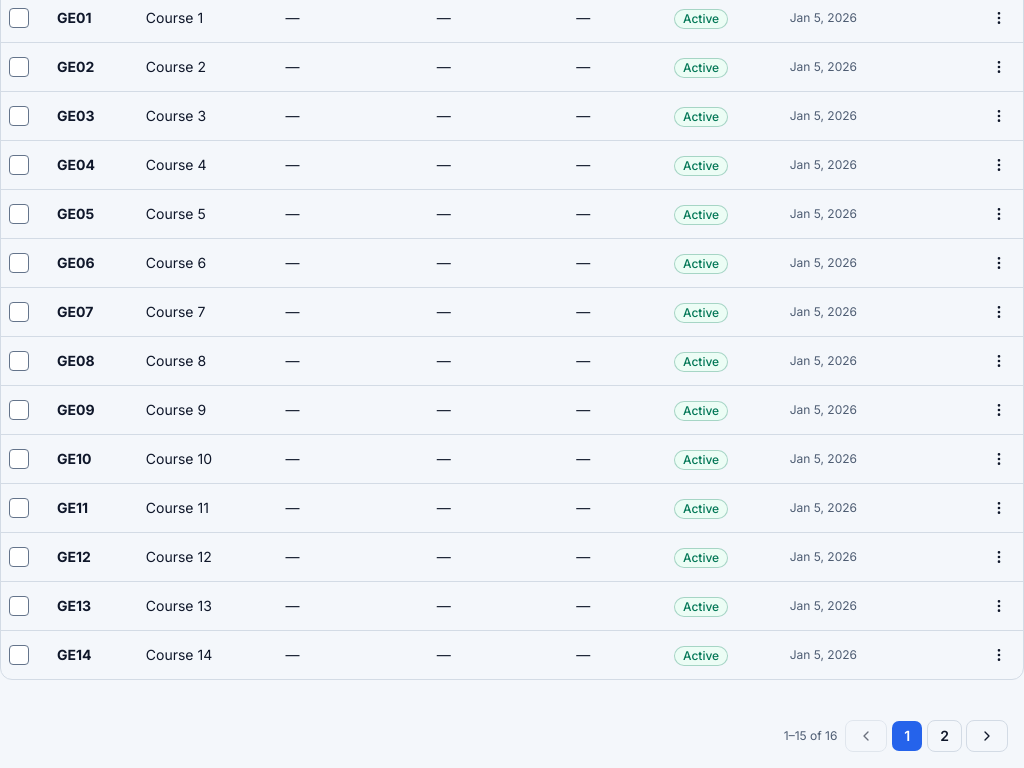
GenEdCoursesCatalog › paginates at PAGE_SIZE=15 and navigates to page 2
(page scrolled)
Check: the text "1–15 of 16" is shown, box [784,728,837,744]
Check: the text "GE15" is not shown
Click the button named "next".
click(987, 736)  # box [966,720,1008,752]
(page scrolled)
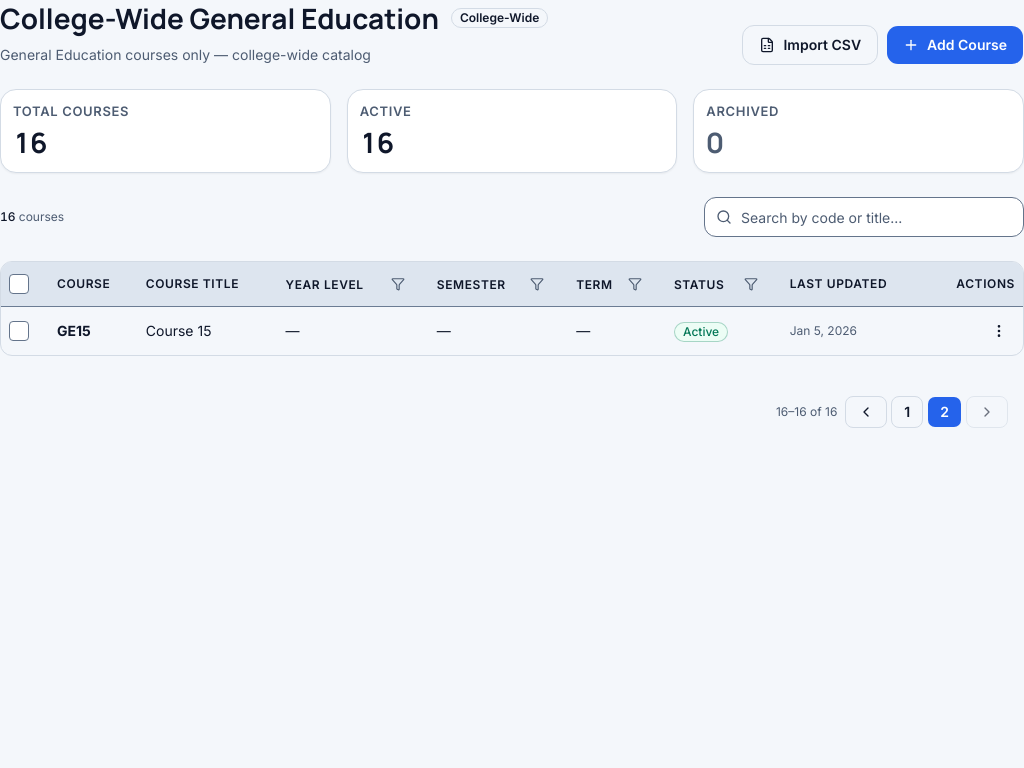
Check: the text "GE15" is shown, box [57,322,91,339]
Check: the text "16–16 of 16" is shown, box [776,404,837,420]
